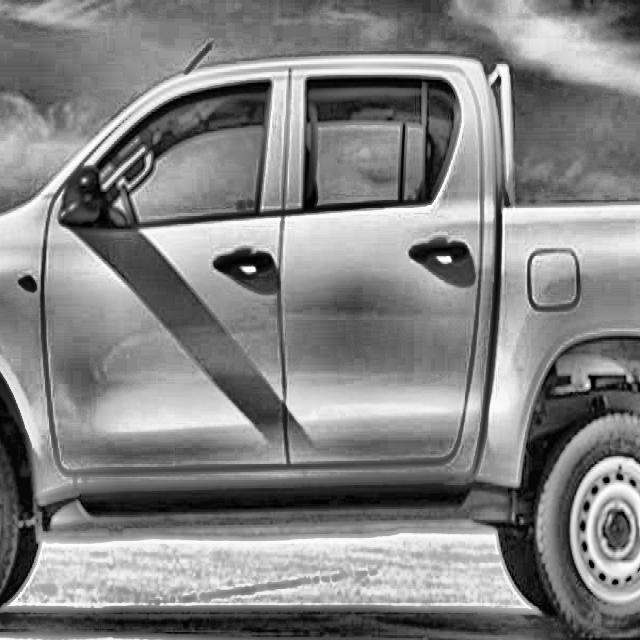light_vehicle: (0, 24, 640, 634)
